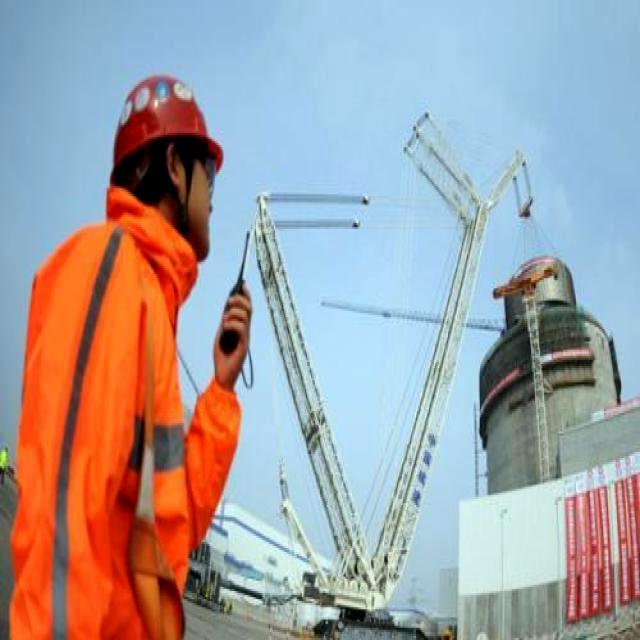hard_hat: (110, 74, 223, 182)
person: (10, 76, 251, 638)
